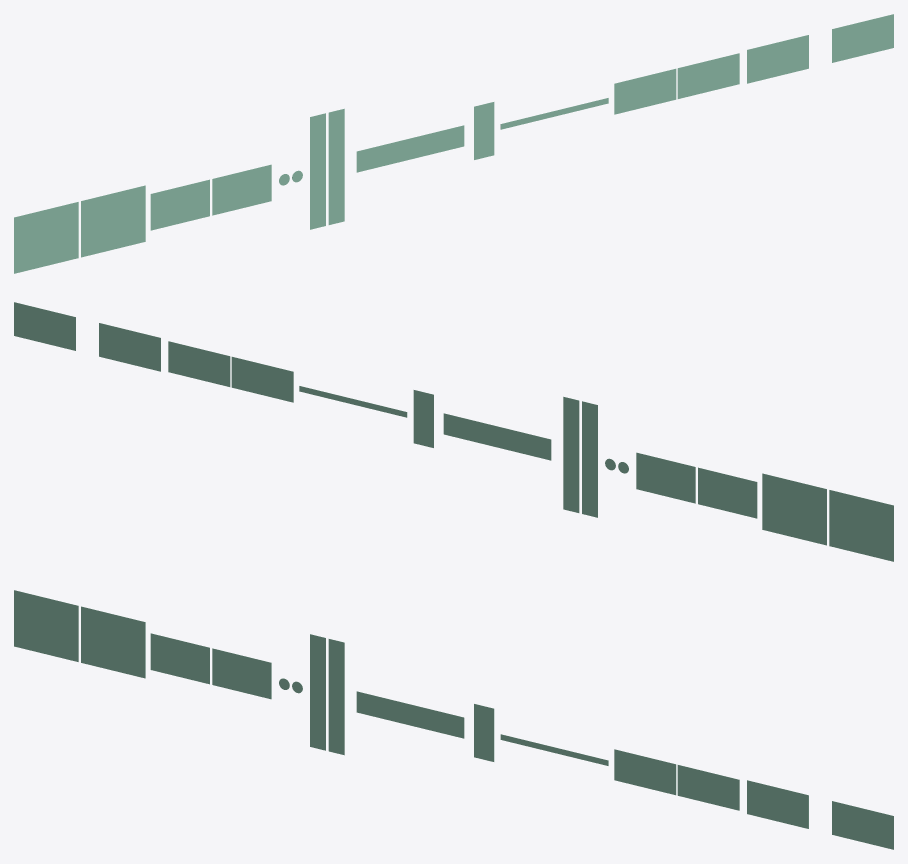
3 views of the same model, one above another, from view 1: azimuth 30°, elevation 25°; view 2: azimuth 150°, elevation 25°; view 3: azimuth 330°, elevation 25° (orthographic).
Parts seen in each view (by area): view 1: 北.001, 北, 西2, 装飾, 装飾.001, 屋根2, 屋根2.001, 屋根1, 屋根1.001, 西.001, 西, 西3 (+1 smaller); view 2: 北.001, 北, 西2, 装飾, 装飾.001, 屋根2, 屋根2.001, 屋根1, 屋根1.001, 西.001, 西, 西3 (+1 smaller); view 3: 北.001, 北, 西2, 装飾, 装飾.001, 屋根2, 屋根2.001, 屋根1, 屋根1.001, 西.001, 西, 西3 (+1 smaller).
Part boxes in pixels (bbox=[...]): 北.001: bbox=[81, 185, 145, 257]; 北: bbox=[14, 202, 78, 273]; 西2: bbox=[356, 125, 464, 172]; 装飾: bbox=[212, 164, 271, 215]; 装飾.001: bbox=[150, 179, 209, 230]; 屋根2: bbox=[747, 35, 808, 83]; 屋根2.001: bbox=[832, 14, 893, 62]; 屋根1: bbox=[614, 68, 676, 114]; 屋根1.001: bbox=[677, 53, 739, 98]; 西.001: bbox=[328, 108, 344, 224]; 西: bbox=[310, 113, 325, 229]; 西3: bbox=[474, 102, 494, 159]; 北.001: bbox=[762, 473, 826, 545]; 北: bbox=[829, 490, 893, 561]; 西2: bbox=[443, 413, 551, 460]; 装飾: bbox=[636, 452, 695, 503]; 装飾.001: bbox=[698, 467, 757, 518]; 屋根2: bbox=[99, 323, 160, 371]; 屋根2.001: bbox=[14, 302, 75, 350]; 屋根1: bbox=[231, 356, 293, 402]; 屋根1.001: bbox=[168, 341, 230, 386]; 西.001: bbox=[563, 396, 579, 512]; 西: bbox=[582, 401, 597, 517]; 西3: bbox=[413, 390, 433, 447]; 北.001: bbox=[81, 606, 145, 678]; 北: bbox=[14, 590, 78, 661]; 西2: bbox=[356, 691, 464, 738]; 装飾: bbox=[212, 648, 271, 699]; 装飾.001: bbox=[150, 633, 209, 684]; 屋根2: bbox=[747, 780, 808, 828]; 屋根2.001: bbox=[832, 801, 893, 849]; 屋根1: bbox=[614, 749, 676, 795]; 屋根1.001: bbox=[677, 765, 739, 810]; 西.001: bbox=[328, 639, 344, 755]; 西: bbox=[310, 634, 325, 750]; 西3: bbox=[474, 704, 494, 761].
Bounding box in the file's own units: 65.37 × 8 × 0.008.
